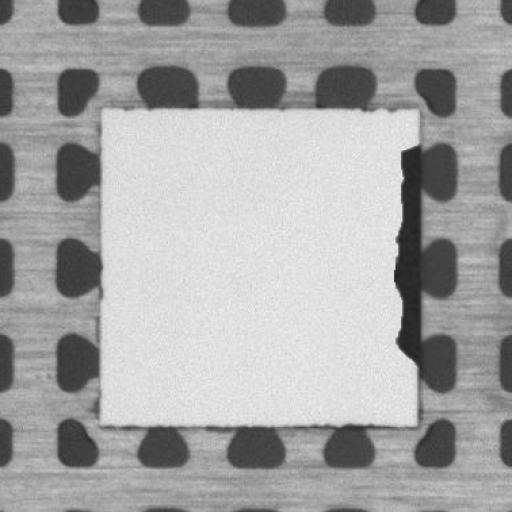DIE_BROKEN: (392, 140, 422, 360)
